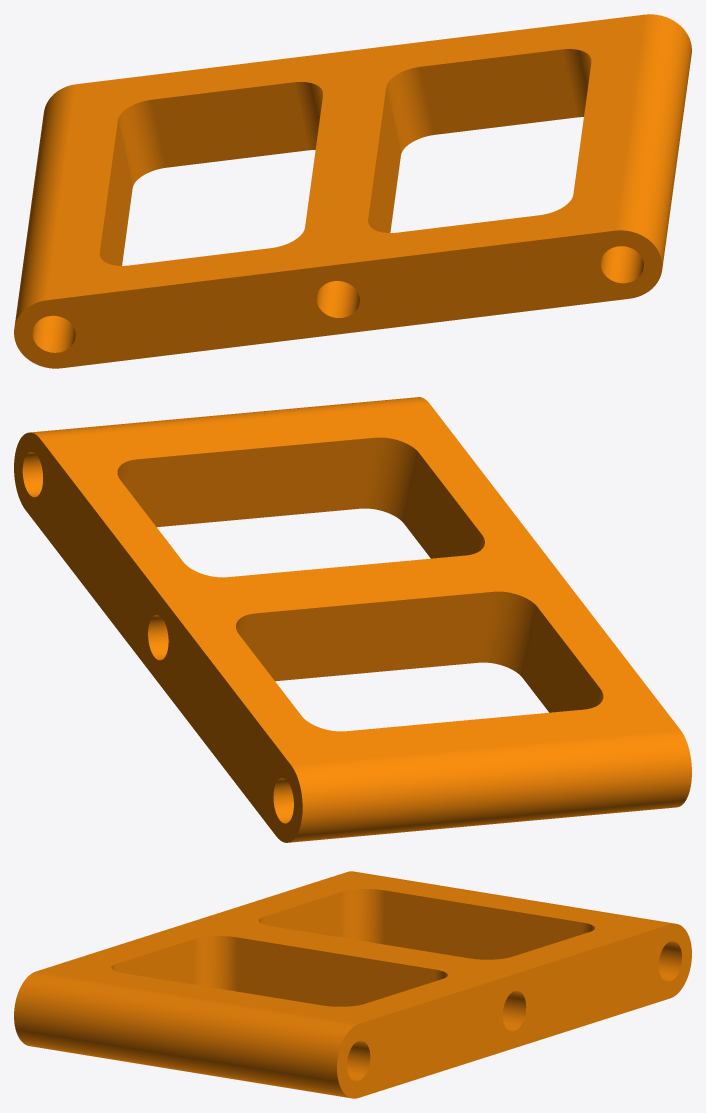
3 renders of one model, top to bottom at view 1: azimuth 30°, elevation 25°; view 2: azimuth 150°, elevation 25°; view 3: azimuth 270°, elevation 25°, orthographic. The views are drawn at different scales.
Visible parts, largest first — view 1: mesh503, mesh497, mesh500, mesh512, mesh506, mesh499, mesh511, mesh505, mesh515, mesh514, mesh502, mesh496 (+3 smaller); view 2: mesh503, mesh499, mesh498, mesh507, mesh509, mesh508, mesh510, mesh519, mesh517, mesh500, mesh501, mesh496 (+1 smaller); view 3: mesh500, mesh498, mesh503, mesh505, mesh511, mesh518, mesh520, mesh508, mesh510, mesh502, mesh496, mesh501 (+1 smaller).
Part boxes in pixels (x1,y1,x2,y2): mesh503: (47, 14, 644, 300); mesh497: (14, 230, 662, 368); mesh500: (615, 14, 691, 267); mesh512: (152, 82, 308, 167); mesh506: (420, 49, 576, 134); mesh499: (14, 84, 76, 325); mesh511: (100, 121, 132, 265); mesh505: (368, 88, 400, 232); mesh515: (386, 67, 434, 154); mesh514: (118, 99, 166, 187); mesh502: (600, 246, 643, 283); mesh496: (32, 315, 75, 352); mesh503: (40, 403, 680, 765); mesh499: (289, 730, 691, 842); mesh498: (14, 432, 302, 842); mesh507: (130, 437, 374, 527); mesh509: (248, 592, 493, 681); mesh508: (404, 453, 481, 558); mesh510: (523, 607, 600, 712); mesh519: (478, 591, 537, 677); mesh517: (360, 437, 418, 523); mesh500: (30, 397, 429, 438); mesh501: (148, 615, 168, 660); mesh496: (273, 778, 293, 823); mesh500: (14, 971, 358, 1098); mesh498: (337, 923, 691, 1098); mesh503: (36, 872, 669, 1023); mesh505: (236, 937, 434, 1006); mesh511: (384, 890, 581, 959); mesh518: (341, 889, 384, 944); mesh520: (194, 936, 236, 991); mesh508: (116, 939, 194, 984); mesh510: (264, 892, 341, 937); mesh502: (347, 1040, 370, 1081); mesh496: (658, 941, 681, 981); mesh501: (503, 991, 526, 1031).
Size of the model in its own units: 0.0475 by 0.0141 by 0.0445.
